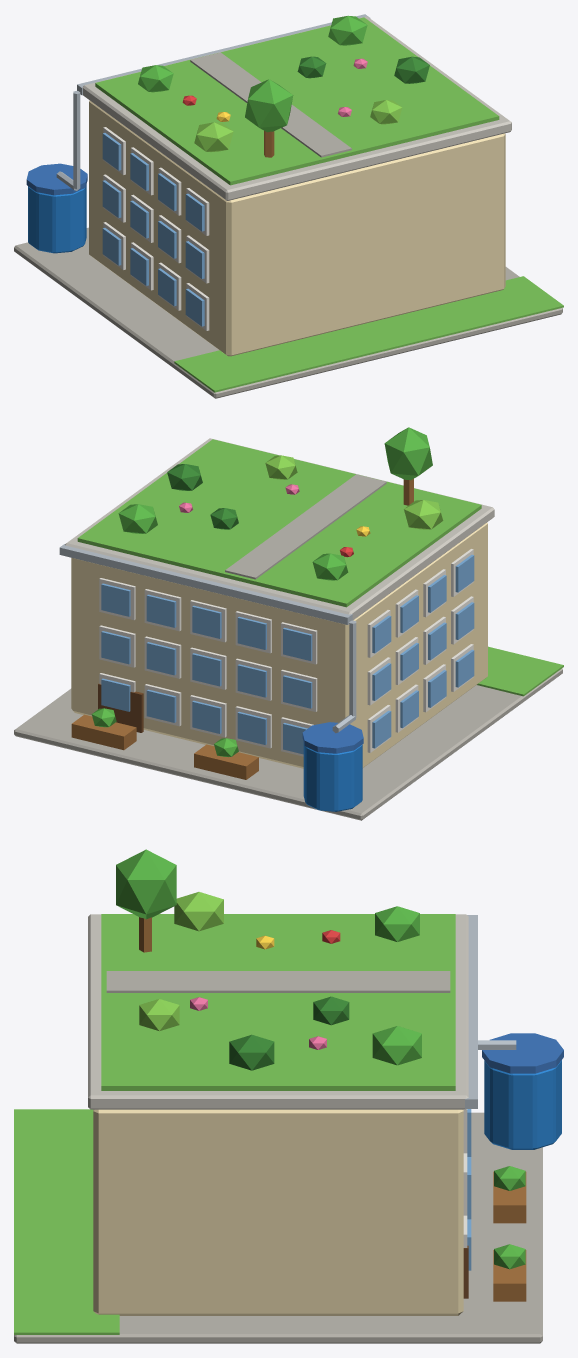
Rendered from green_roof.glb.
3 views of the same model, one above another, from view 1: azimuth 30°, elevation 25°; view 2: azimuth 150°, elevation 25°; view 3: azimuth 270°, elevation 25° (orthographic). The views are drawn at different scales.
Parts seen in each view (by area): view 1: corpo; view 2: corpo; view 3: corpo.
Boxes of the visible parts, bbox=[...] form: corpo: bbox=[14, 14, 563, 398]; corpo: bbox=[14, 427, 563, 820]; corpo: bbox=[14, 849, 563, 1343].
Bounding box in the file's own units: 4 × 2.83 × 4.16.
